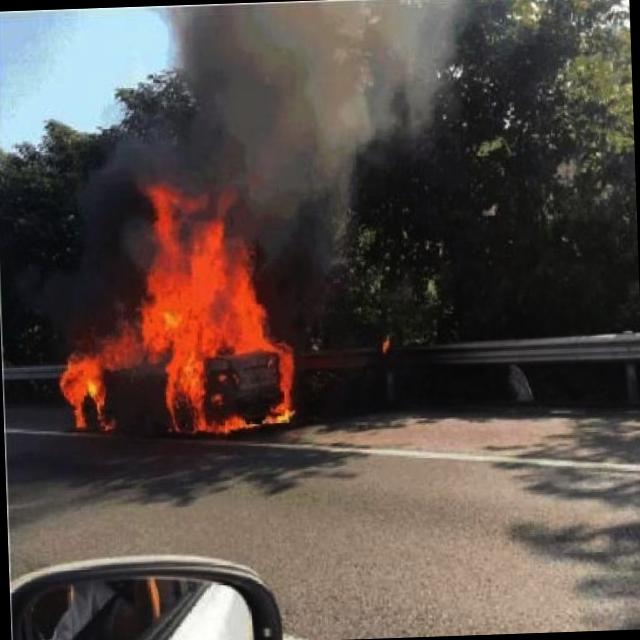Fire_Dangerous: (49, 192, 322, 450)
